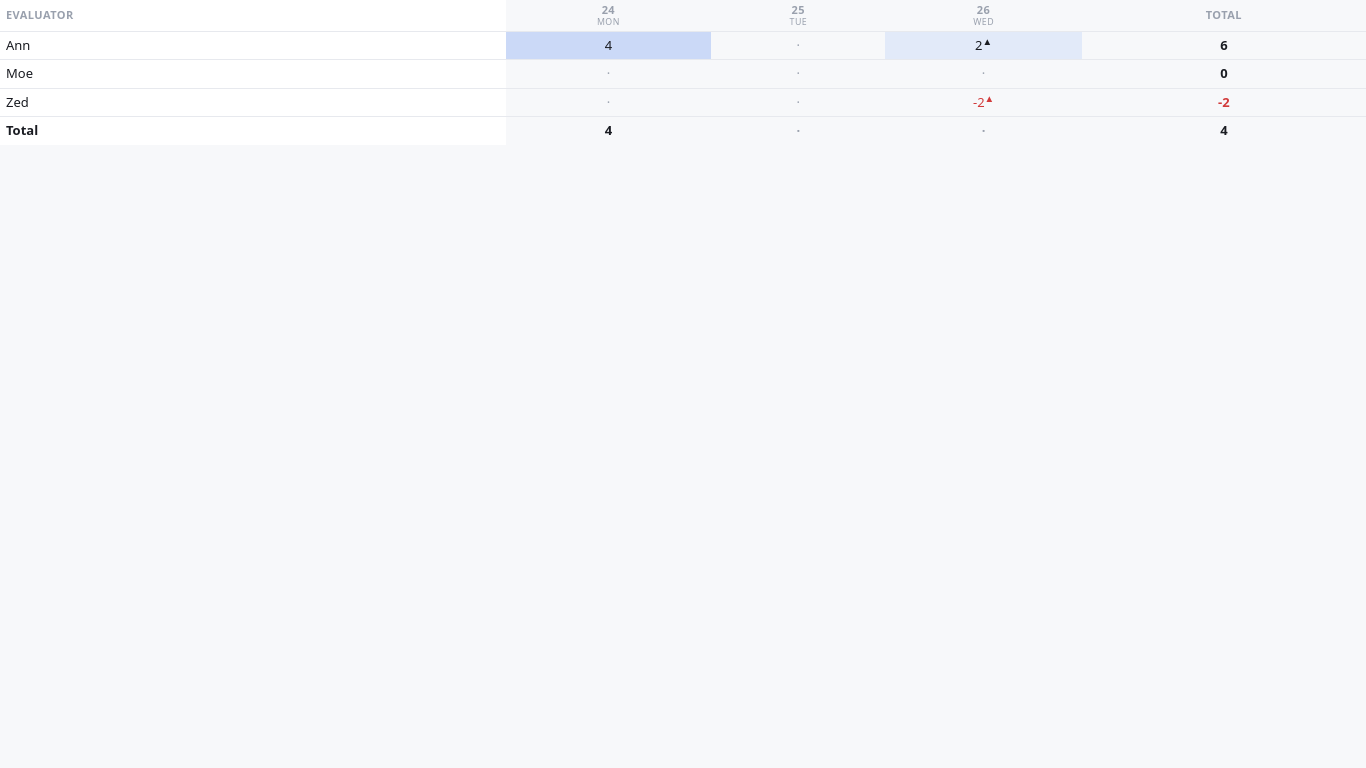
Test case: AssignHistoryMatrix › clicking a cell opens the run detail
The width and height of the screenshot is (1366, 768).
Click the button "4" at (608, 46), box top-left (512, 36), bottom-right (705, 55)
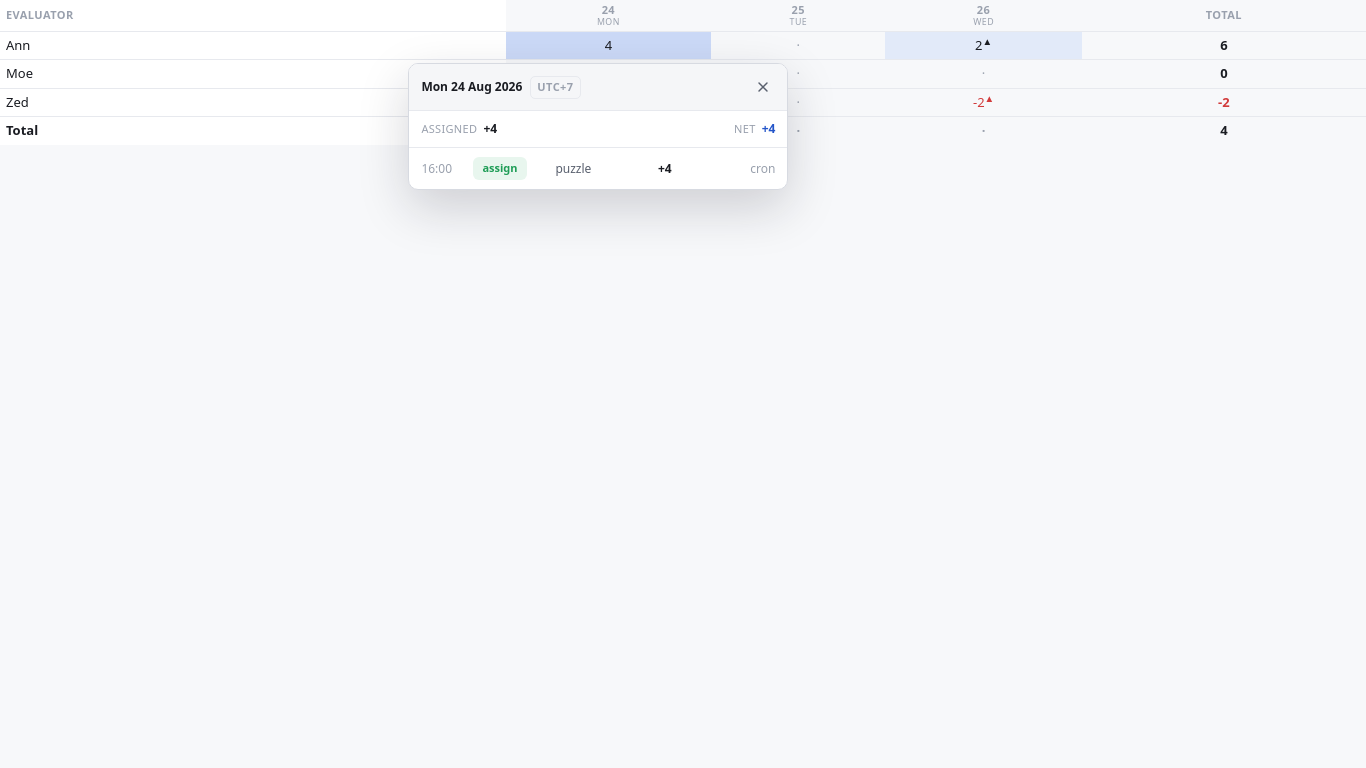
Result: the dialog shows "Assign" at top-left (482, 160), bottom-right (518, 175)
Result: the dialog shows "puzzle" at top-left (555, 160), bottom-right (591, 176)
Result: the dialog shows "Assigned" at top-left (421, 121), bottom-right (477, 136)
